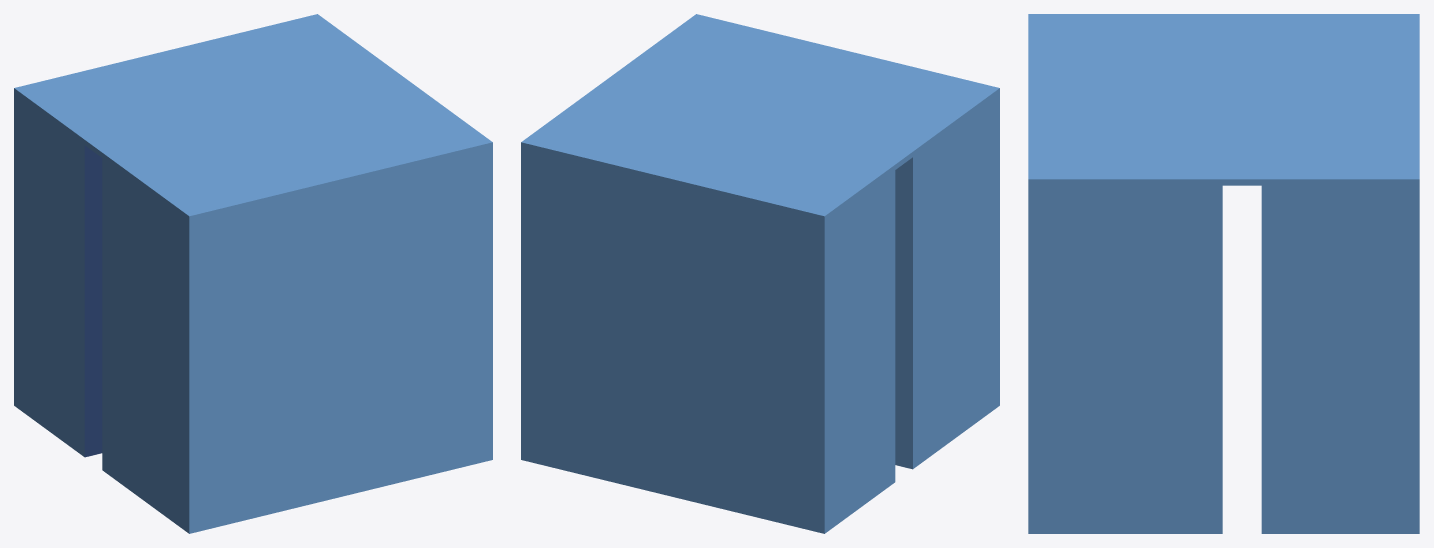
3 renders of one model, left to right at view 1: azimuth 30°, elevation 25°; view 2: azimuth 150°, elevation 25°; view 3: azimuth 270°, elevation 25°, orthographic. The views are drawn at different scales.
Parts seen in each view (by area): view 1: Cube; view 2: Cube; view 3: Cube.
Part boxes in pixels (left/top/right/bottom): Cube: left=14, top=14, right=492, bottom=533; Cube: left=521, top=14, right=999, bottom=533; Cube: left=1028, top=14, right=1419, bottom=533.
Size of the model in its own units: 2 by 2 by 2.
